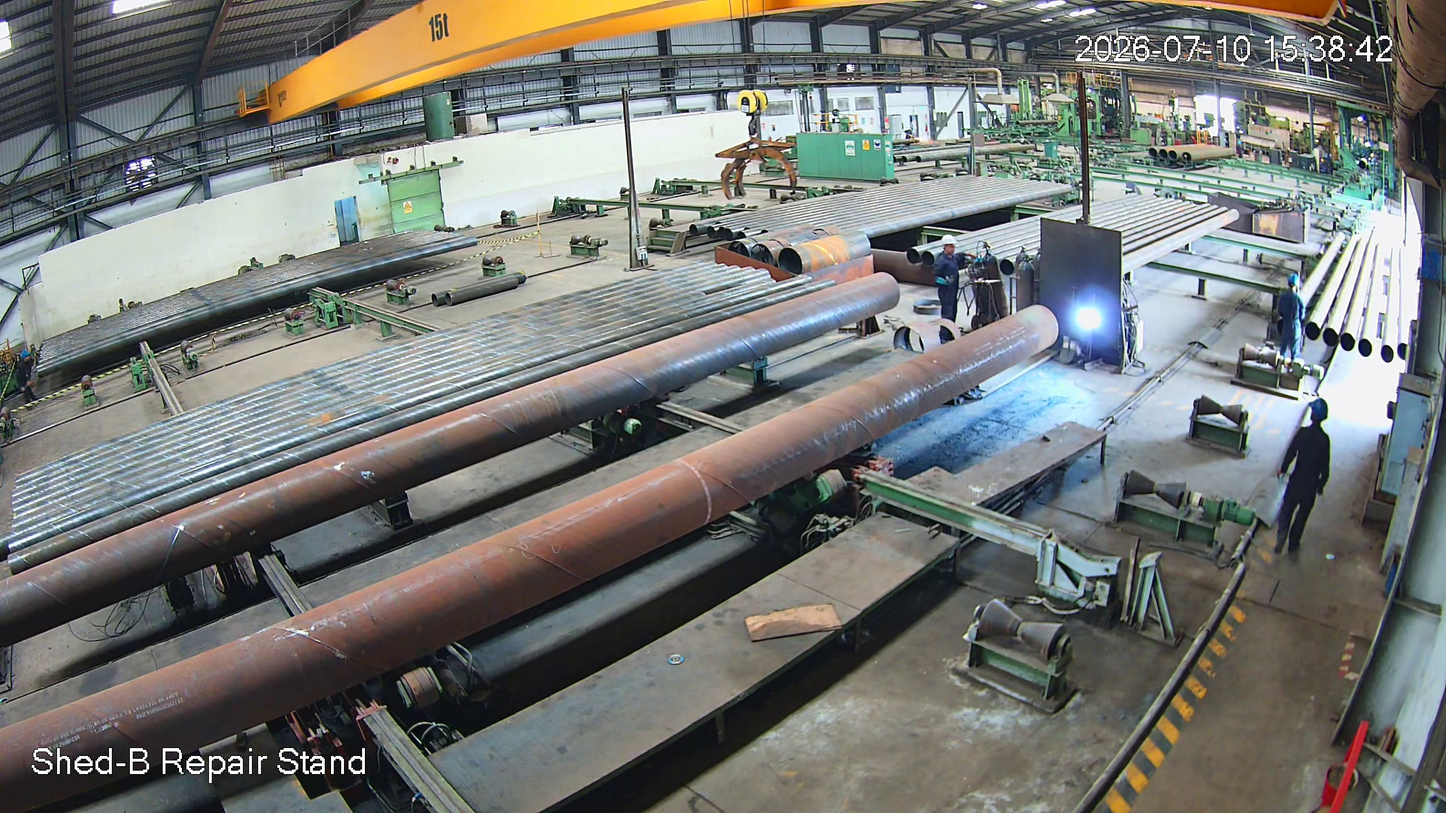Helmet: (1301, 394, 1337, 433), (1285, 271, 1304, 300), (941, 234, 961, 257)
Person: (1264, 399, 1340, 568), (934, 235, 966, 330), (1273, 273, 1305, 360)
